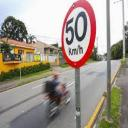speed_limit_50: (60, 0, 96, 68)
